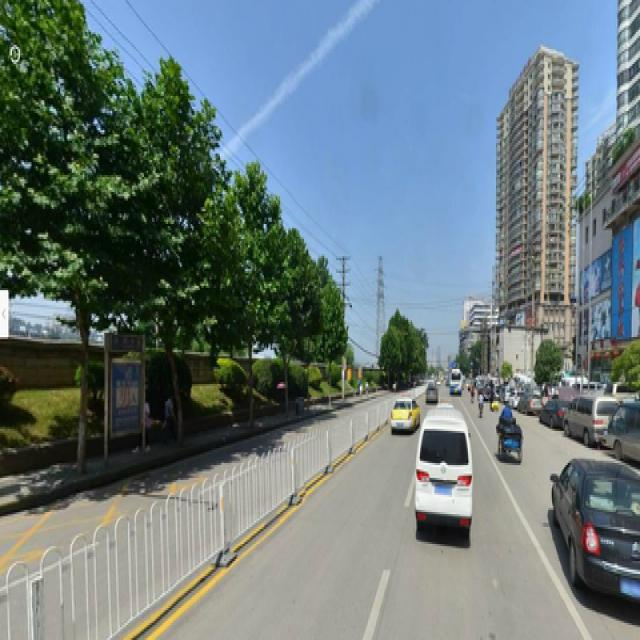meta: (25, 24, 135, 442), (142, 75, 222, 452), (225, 160, 280, 414)
